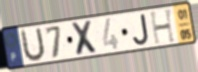4: (102, 17, 120, 52)
7: (44, 24, 63, 60)
H: (148, 7, 178, 46)
J: (132, 12, 151, 47)
U: (20, 26, 47, 64)
X: (69, 19, 100, 57)
